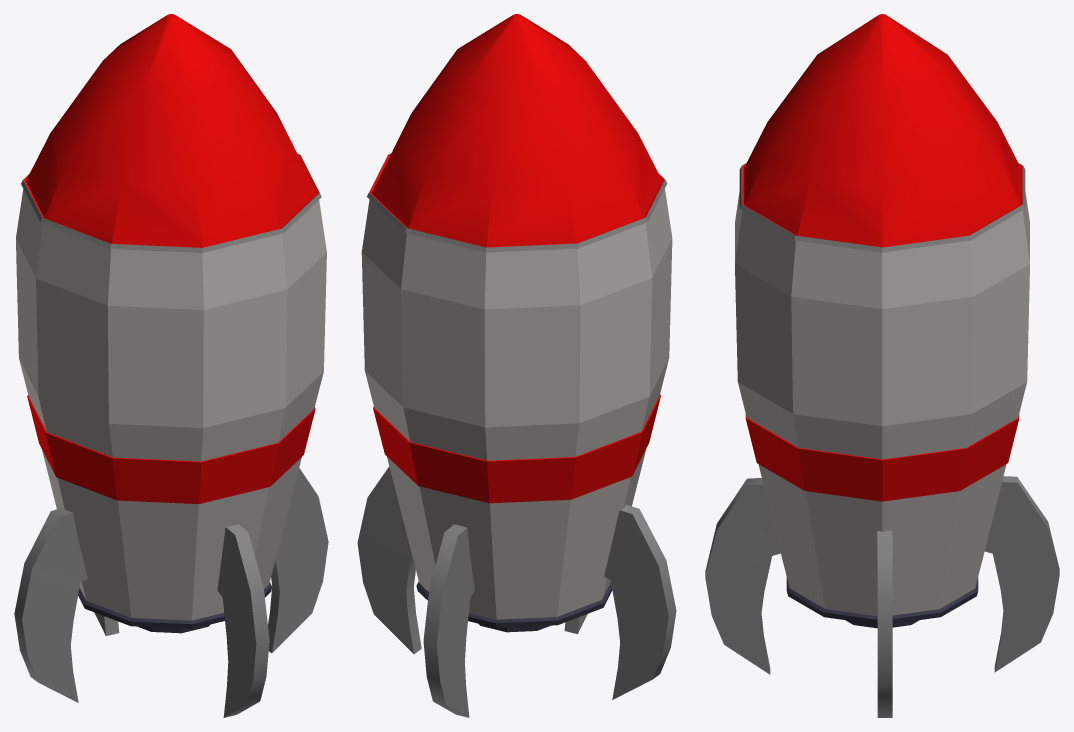
Rendered from Speed.fbx.
3 renders of one model, left to right at view 1: azimuth 30°, elevation 25°; view 2: azimuth 150°, elevation 25°; view 3: azimuth 270°, elevation 25°, orthographic.
Parts seen in each view (by area): view 1: body (×5), arm3, arm2, arm1; view 2: body (×5), arm3, arm4, arm1; view 3: body (×5), arm2, arm4, arm1.
Boxes of the visible parts, bbox=[...] form: body (×5): bbox=[16, 14, 326, 628]; arm3: bbox=[14, 507, 87, 702]; arm2: bbox=[217, 524, 269, 717]; arm1: bbox=[268, 468, 328, 652]; body (×5): bbox=[361, 14, 672, 627]; arm3: bbox=[604, 504, 676, 699]; arm4: bbox=[423, 524, 474, 717]; arm1: bbox=[357, 467, 421, 653]; body (×5): bbox=[735, 14, 1029, 624]; arm2: bbox=[705, 478, 780, 674]; arm4: bbox=[984, 476, 1059, 672]; arm1: bbox=[877, 530, 892, 717].
Size of the model in its own units: 2.41 by 4.91 by 2.41.
